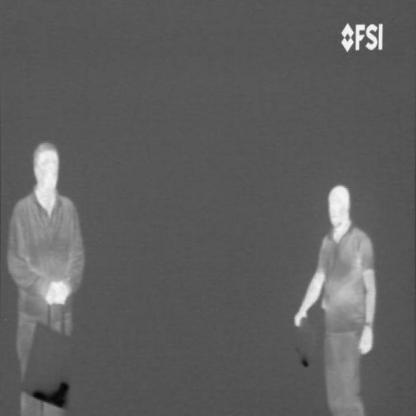weapon: (30, 381, 70, 409)
